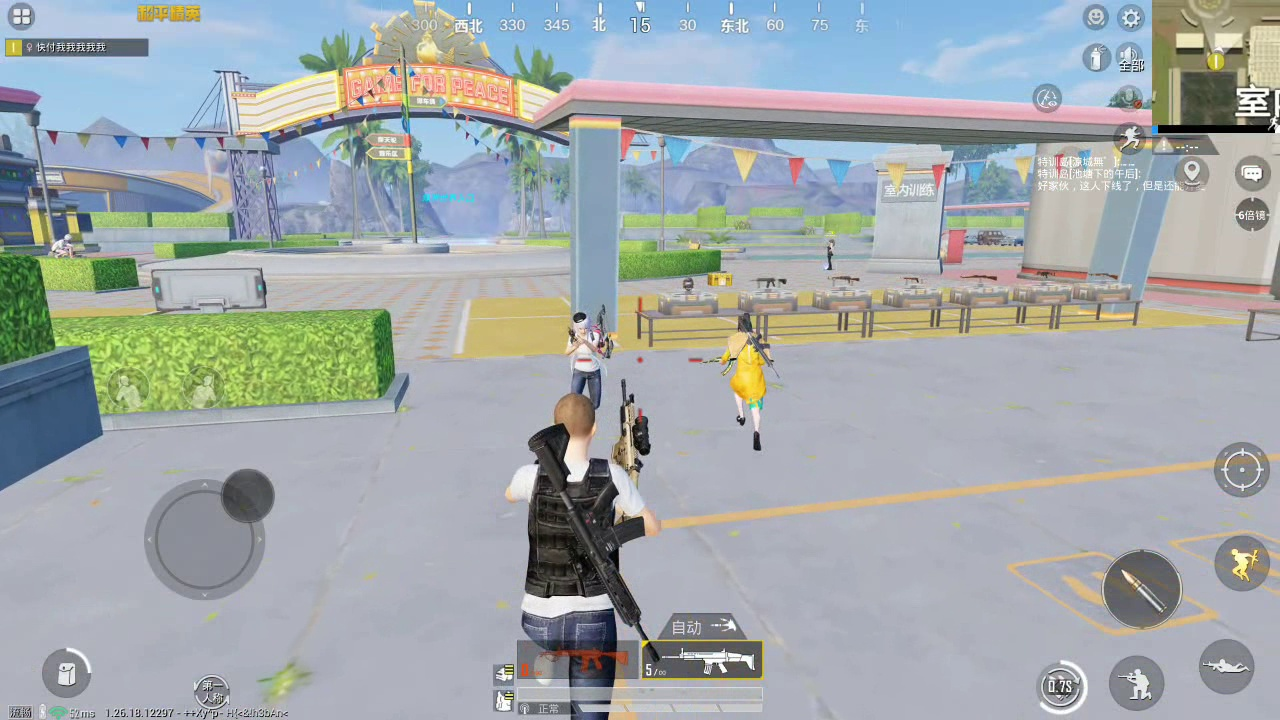enemy: (725, 312, 766, 447), (567, 310, 603, 408), (49, 232, 72, 257)
